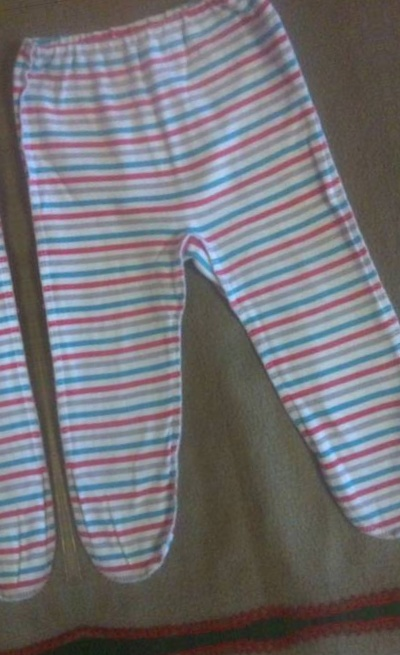Pants: (0, 0, 400, 608), (0, 37, 71, 655), (369, 0, 400, 548), (102, 648, 400, 655)
